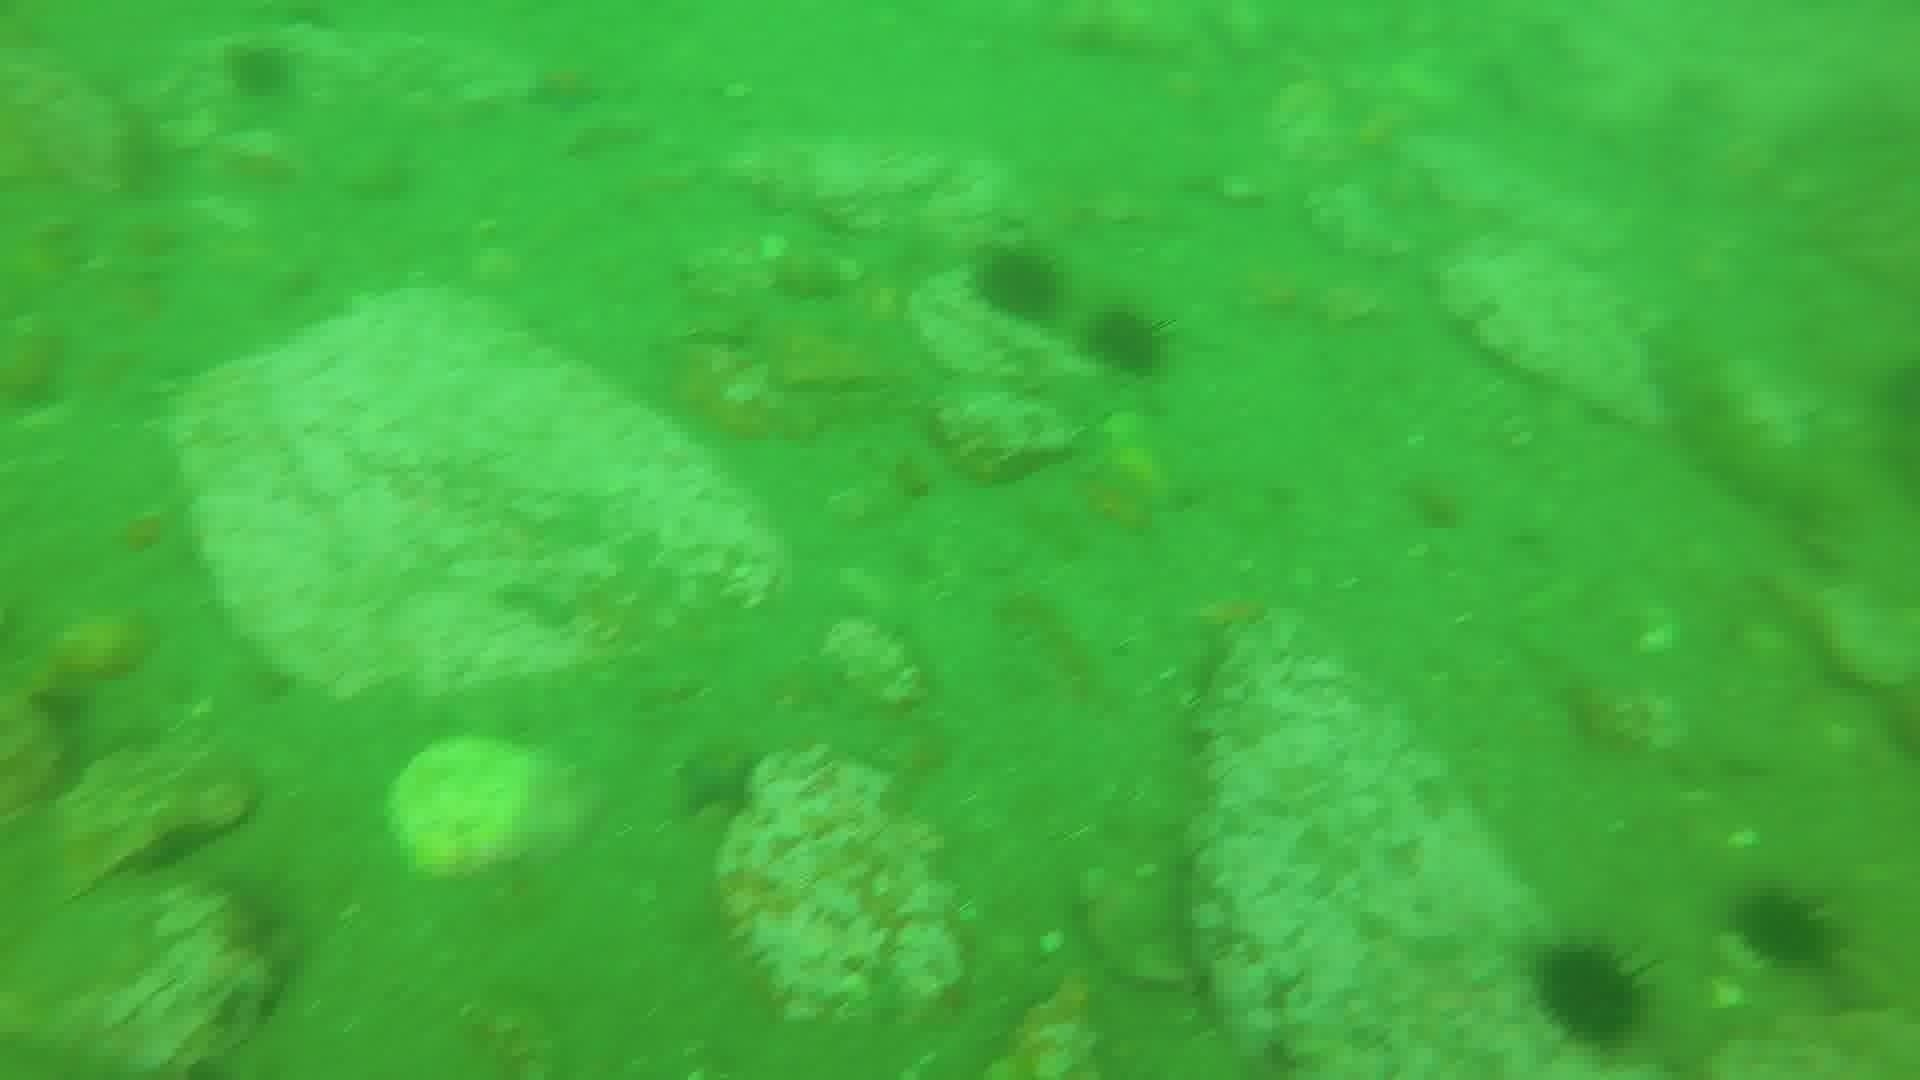echinus: (1527, 935, 1655, 1054), (1727, 882, 1842, 975), (969, 243, 1065, 328), (1079, 303, 1174, 382), (220, 38, 299, 104)
holothurian: (1643, 322, 1855, 545)
starfish: (1054, 422, 1189, 541), (670, 733, 767, 822), (521, 59, 611, 117)
